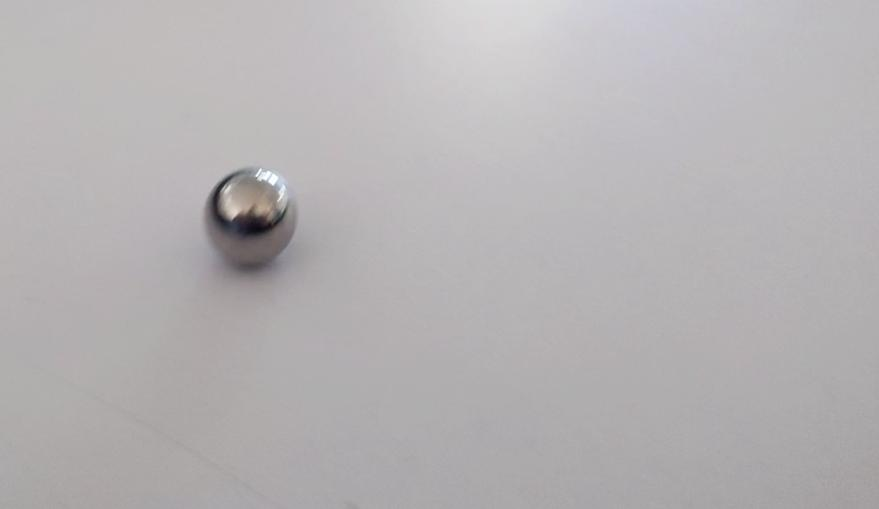steelball: (196, 161, 303, 275)
